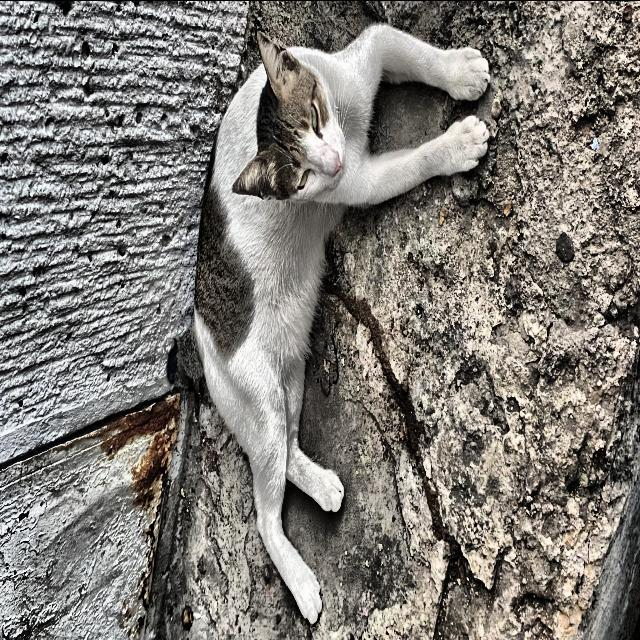Healthy skin: (210, 201, 302, 353)
